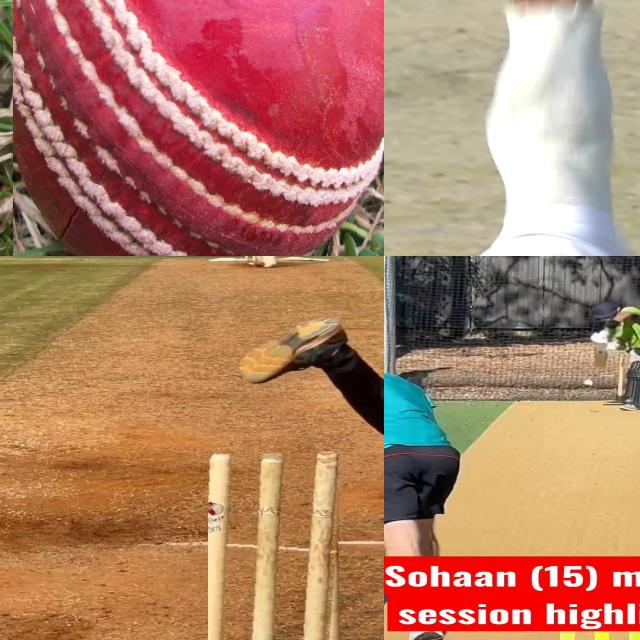Cricket ball: (12, 0, 384, 256), (582, 378, 594, 386), (254, 261, 265, 268)
Stumps: (208, 451, 343, 640)
